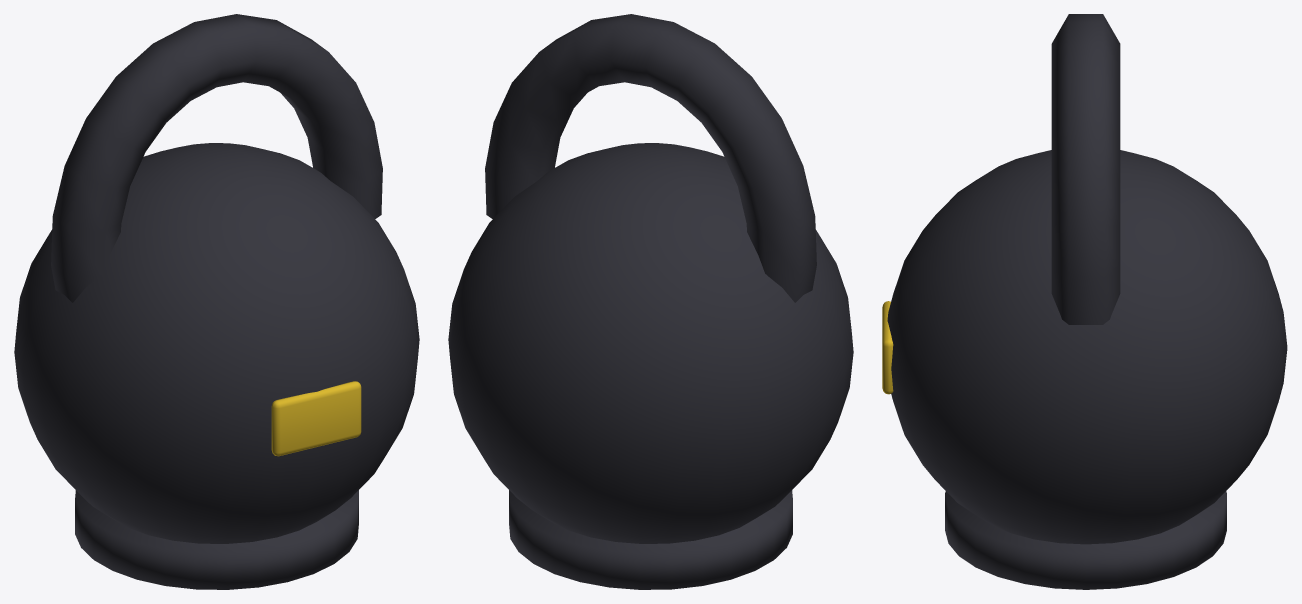
Rendered from kettlebell.glb.
3 renders of one model, left to right at view 1: azimuth 30°, elevation 25°; view 2: azimuth 150°, elevation 25°; view 3: azimuth 270°, elevation 25°, orthographic.
Visible parts, largest first — view 1: kettlebell; view 2: kettlebell; view 3: kettlebell.
Boxes of the visible parts, left/top/right/bottom form: kettlebell: left=14, top=14, right=419, bottom=589; kettlebell: left=448, top=14, right=853, bottom=589; kettlebell: left=882, top=14, right=1287, bottom=589.
Bounding box in the file's own units: 0.2 × 0.2743 × 0.201.
